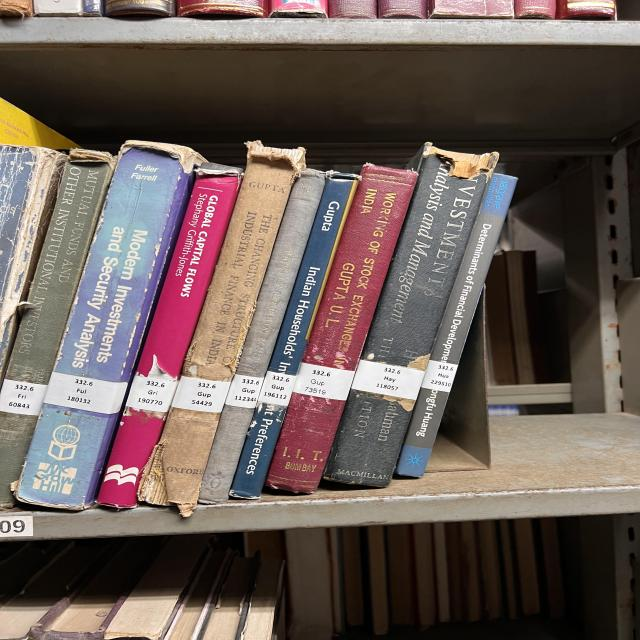Book: (15, 141, 202, 510), (323, 146, 488, 488), (160, 141, 305, 516), (265, 164, 418, 494), (98, 164, 242, 508), (0, 150, 117, 509), (200, 169, 325, 504), (230, 174, 358, 499), (395, 174, 517, 478)
Label: (43, 371, 128, 414), (352, 360, 425, 400), (293, 362, 355, 401), (172, 376, 230, 412), (127, 375, 177, 412), (0, 379, 47, 416), (258, 371, 297, 406), (225, 375, 263, 409), (422, 360, 458, 392)
